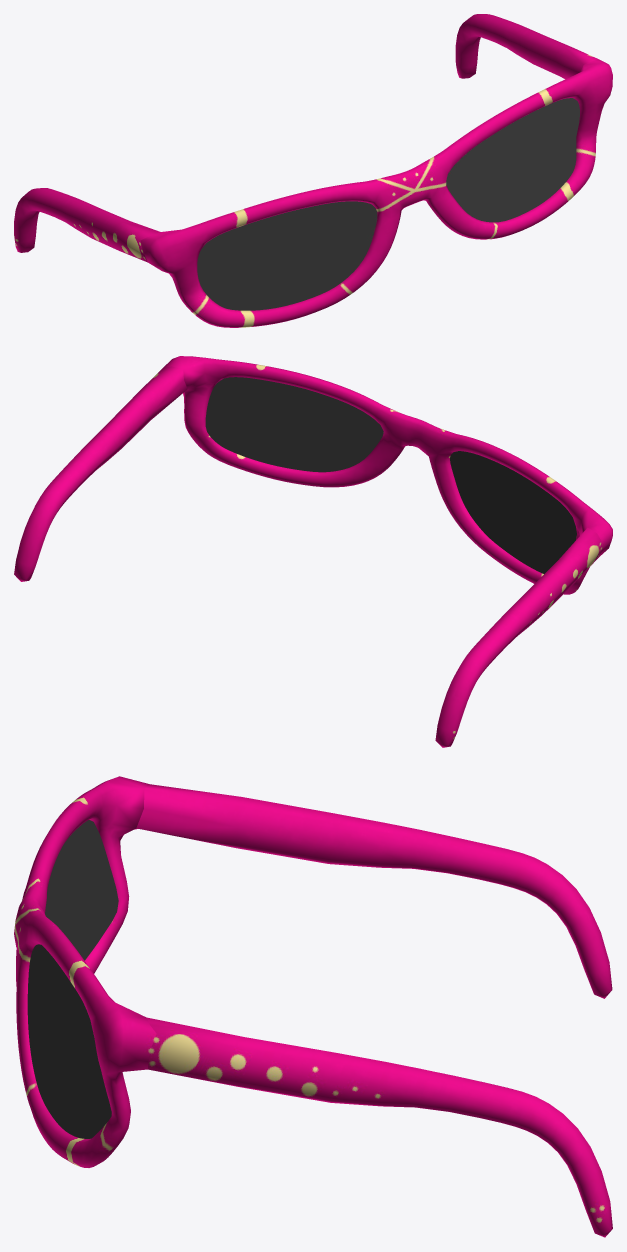
The model's file is Glasses.glb.
The picture shows the model from 3 angles, top to bottom: view 1: azimuth 30°, elevation 25°; view 2: azimuth 150°, elevation 25°; view 3: azimuth 270°, elevation 25°; orthographic projection. The views are drawn at different scales.
Parts seen in each view (by area): view 1: Glasses; view 2: Glasses; view 3: Glasses.
Part boxes in pixels (x1=…): Glasses: x1=14, y1=14, x2=612, y2=327; Glasses: x1=14, y1=356, x2=612, y2=747; Glasses: x1=14, y1=776, x2=612, y2=1237.
Size of the model in its own units: 1.6 by 0.635 by 1.09.
1 material, 1 textured.
